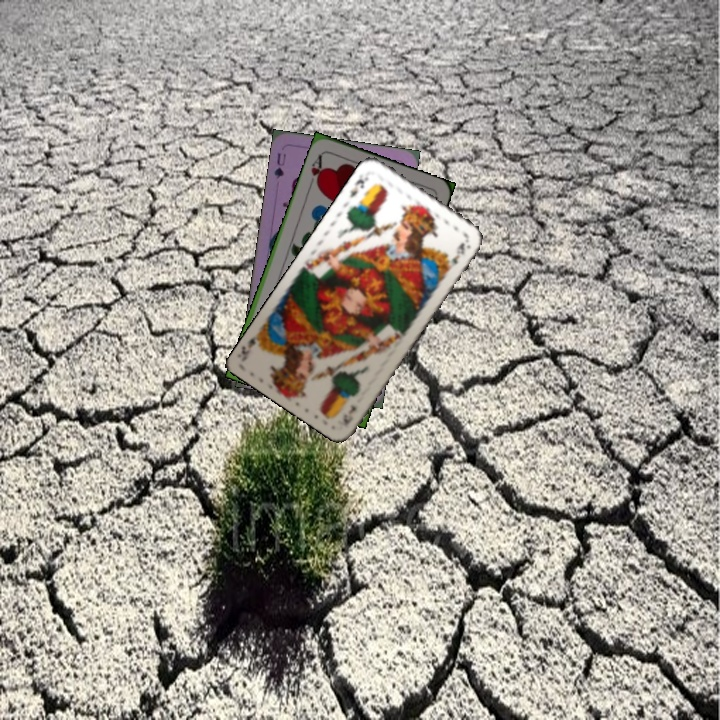EK: (345, 173, 371, 201), (339, 402, 359, 428)
GU: (270, 149, 289, 181)
HA: (305, 150, 327, 189)
